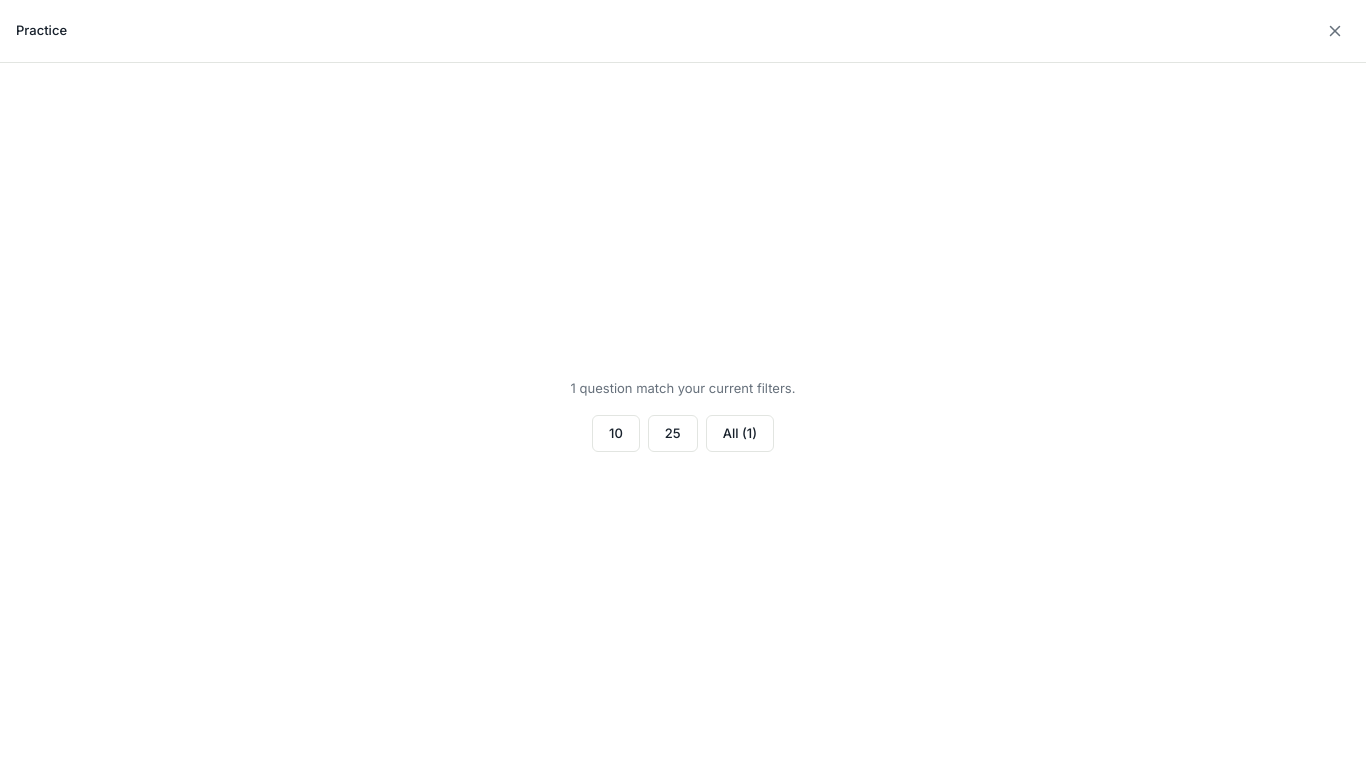
Test: PracticeMode › rating the last card shows the session summary
Click the button "All (1)".
click(740, 433)  # box [706,414,774,452]
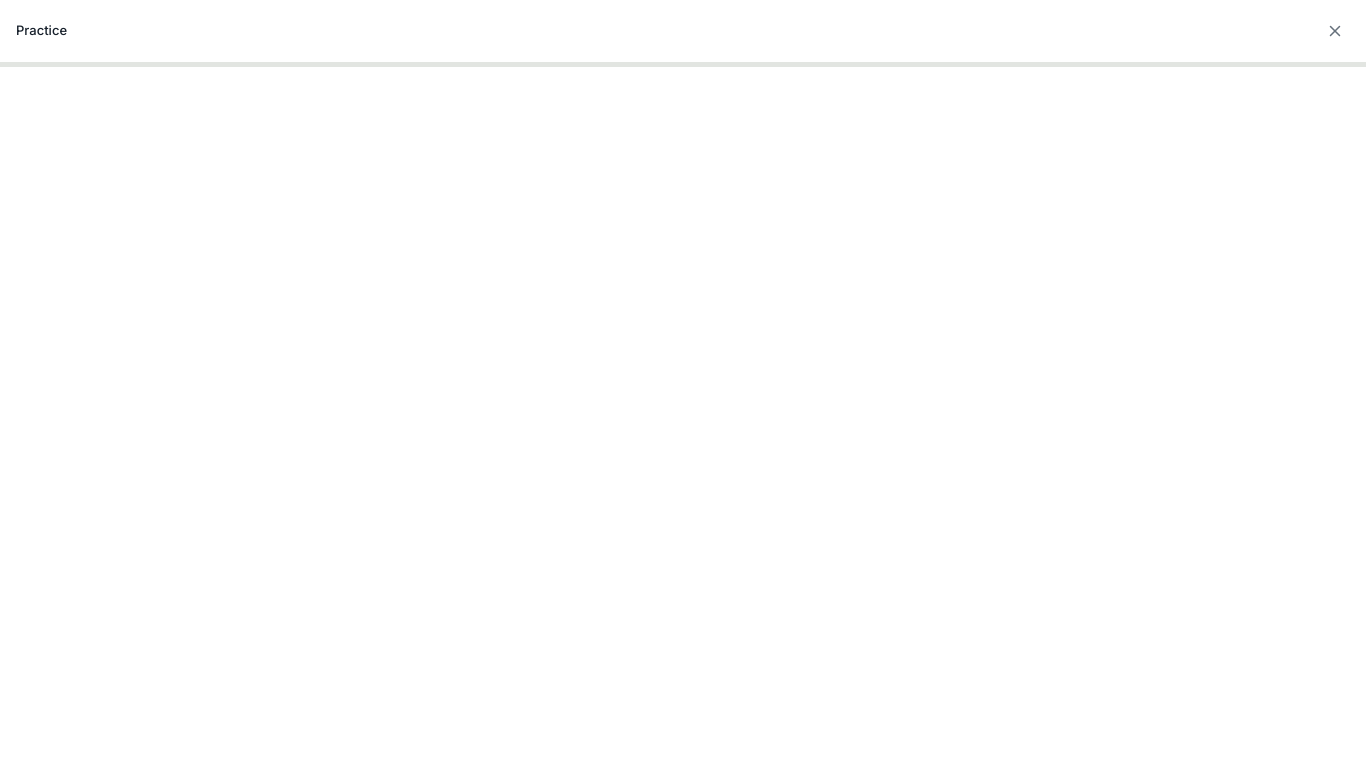
Press Space
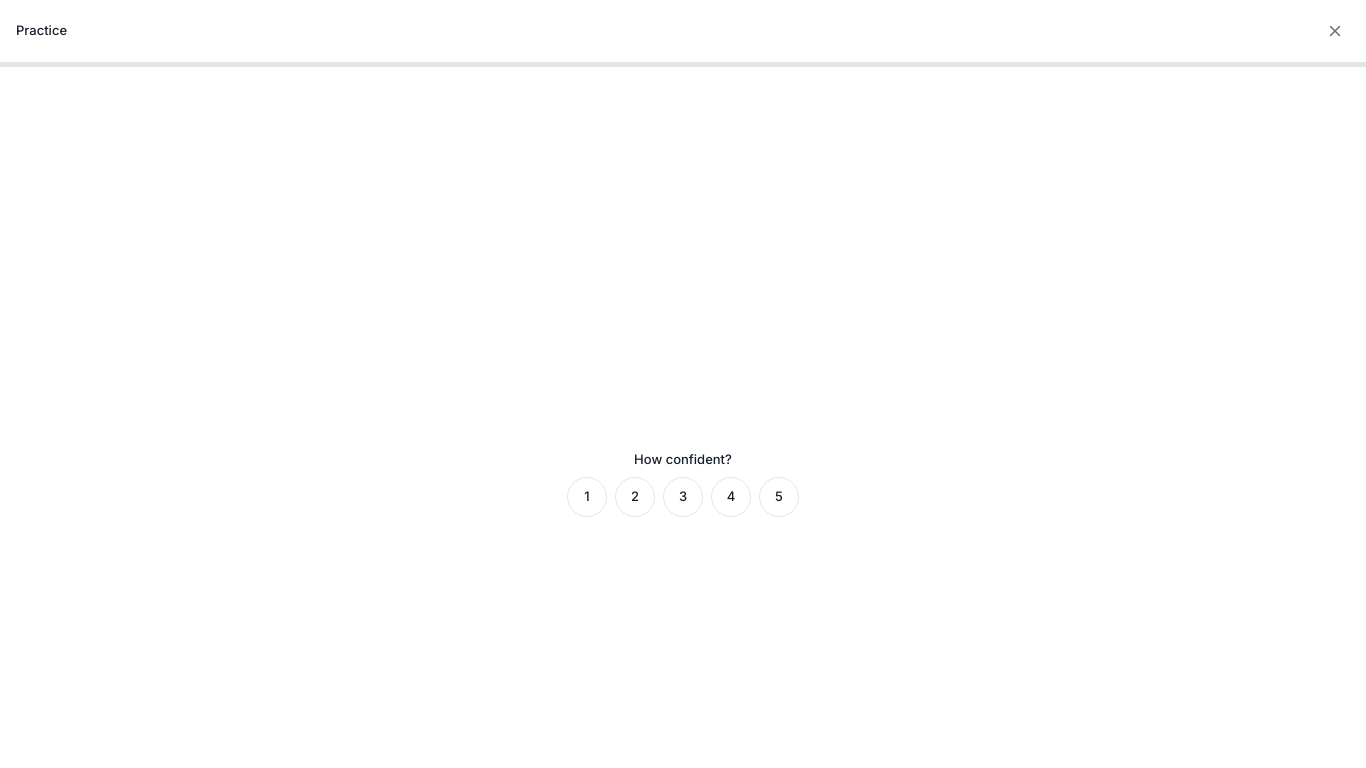
Click the button "4".
click(731, 497)  # box [711,477,751,517]
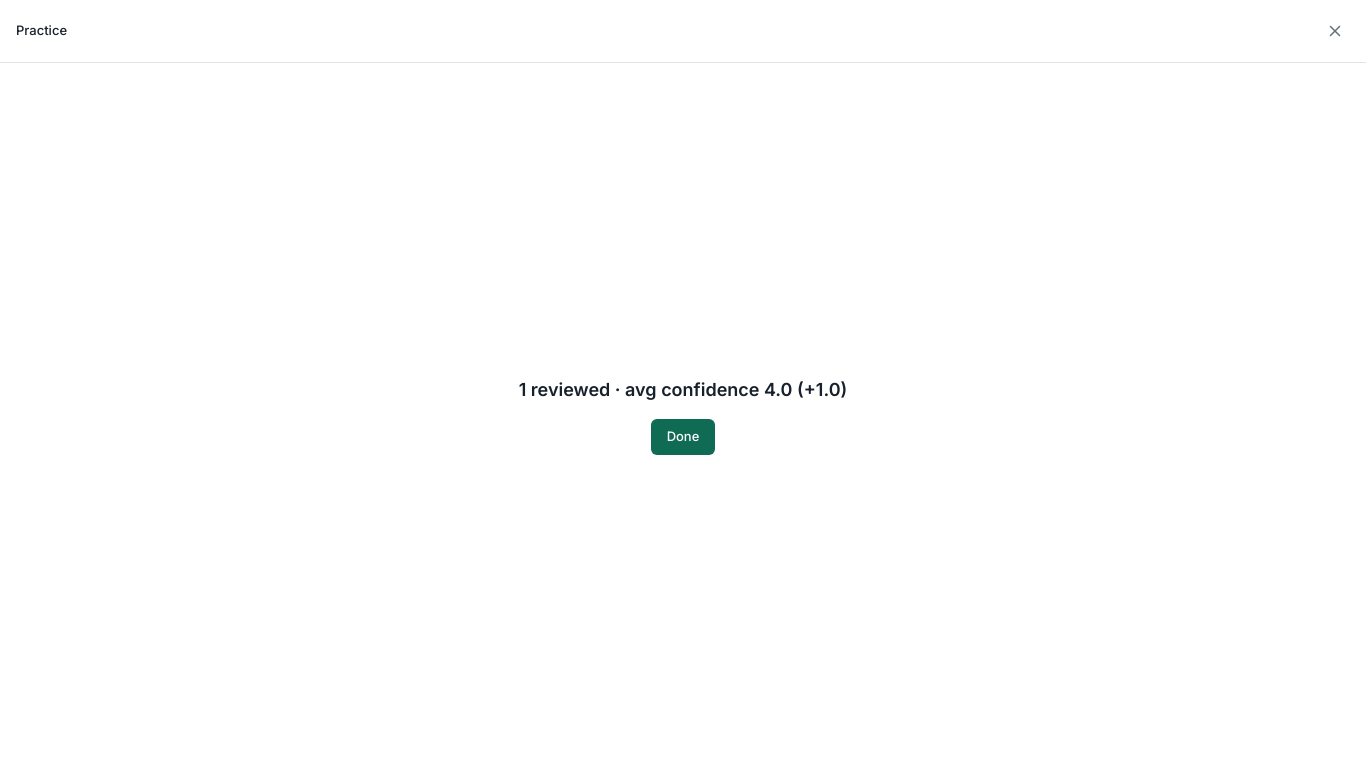
Expected: the text "1 reviewed · avg confidence 4.0 (+1.0)" is shown, [519,376,847,403]
